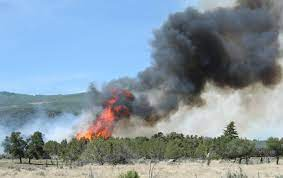smoke: (85, 1, 283, 127)
